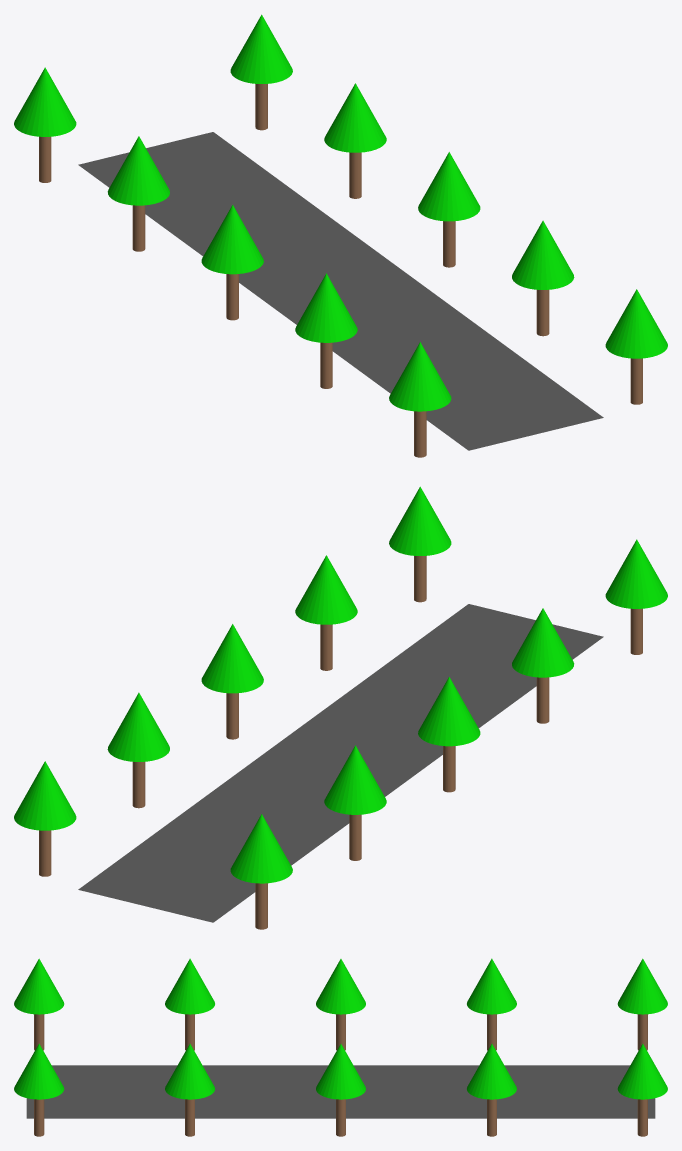
File: tree_road.glb
3 views of the same model, one above another, from view 1: azimuth 30°, elevation 25°; view 2: azimuth 150°, elevation 25°; view 3: azimuth 270°, elevation 25° (orthographic). The views are drawn at different scales.
Visible parts, largest first — view 1: Road, TreeTrunk.003, TreeTrunk.006, TreeTrunk.007, TreeTrunk.009, TreeTrunk.004, TreeTrunk.005, TreeTrunk.001, TreeTrunk.008, TreeTrunk, TreeTrunk.002; view 2: Road, TreeTrunk.002, TreeTrunk.007, TreeTrunk.001, TreeTrunk.003, TreeTrunk.004, TreeTrunk.005, TreeTrunk.009, TreeTrunk, TreeTrunk.006, TreeTrunk.008; view 3: Road, TreeTrunk.001, TreeTrunk.009, TreeTrunk, TreeTrunk.008, TreeTrunk.005, TreeTrunk.003, TreeTrunk.007, TreeTrunk.004, TreeTrunk.002, TreeTrunk.006.
Boxes of the visible parts, x1,y1,x2,y2 form: Road: [78, 132, 603, 450]; TreeTrunk.003: [512, 220, 574, 336]; TreeTrunk.006: [107, 136, 169, 251]; TreeTrunk.007: [324, 83, 386, 198]; TreeTrunk.009: [230, 14, 292, 130]; TreeTrunk.004: [201, 205, 263, 320]; TreeTrunk.005: [418, 152, 480, 267]; TreeTrunk.001: [605, 289, 667, 404]; TreeTrunk.008: [14, 67, 76, 182]; TreeTrunk: [389, 342, 451, 457]; TreeTrunk.002: [295, 273, 357, 388]; Road: [78, 604, 603, 922]; TreeTrunk.002: [512, 608, 574, 723]; TreeTrunk.007: [107, 692, 169, 808]; TreeTrunk.001: [389, 486, 451, 602]; TreeTrunk.003: [295, 555, 357, 670]; TreeTrunk.004: [418, 677, 480, 792]; TreeTrunk.005: [201, 624, 263, 739]; TreeTrunk.009: [14, 761, 76, 876]; TreeTrunk: [605, 539, 667, 654]; TreeTrunk.006: [324, 745, 386, 860]; TreeTrunk.008: [230, 814, 292, 929]; Road: [26, 1065, 655, 1118]; TreeTrunk.001: [14, 1043, 64, 1136]; TreeTrunk.009: [617, 1043, 667, 1136]; TreeTrunk: [14, 958, 64, 1050]; TreeTrunk.008: [617, 958, 667, 1050]; TreeTrunk.005: [316, 1044, 365, 1136]; TreeTrunk.003: [165, 1044, 214, 1136]; TreeTrunk.007: [467, 1044, 516, 1136]; TreeTrunk.004: [316, 959, 365, 1050]; TreeTrunk.002: [165, 958, 214, 1050]; TreeTrunk.006: [467, 958, 516, 1050].
Size of the model in its own units: 10 by 4 by 26.
